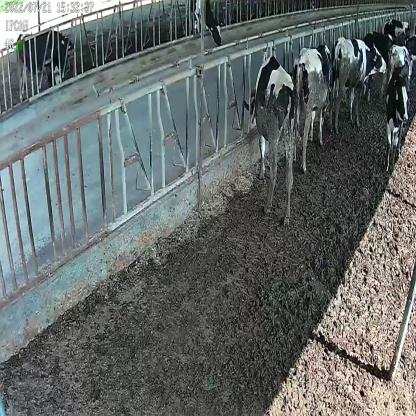cow: (242, 54, 296, 226), (293, 43, 335, 177), (331, 36, 386, 138), (383, 52, 412, 172)
